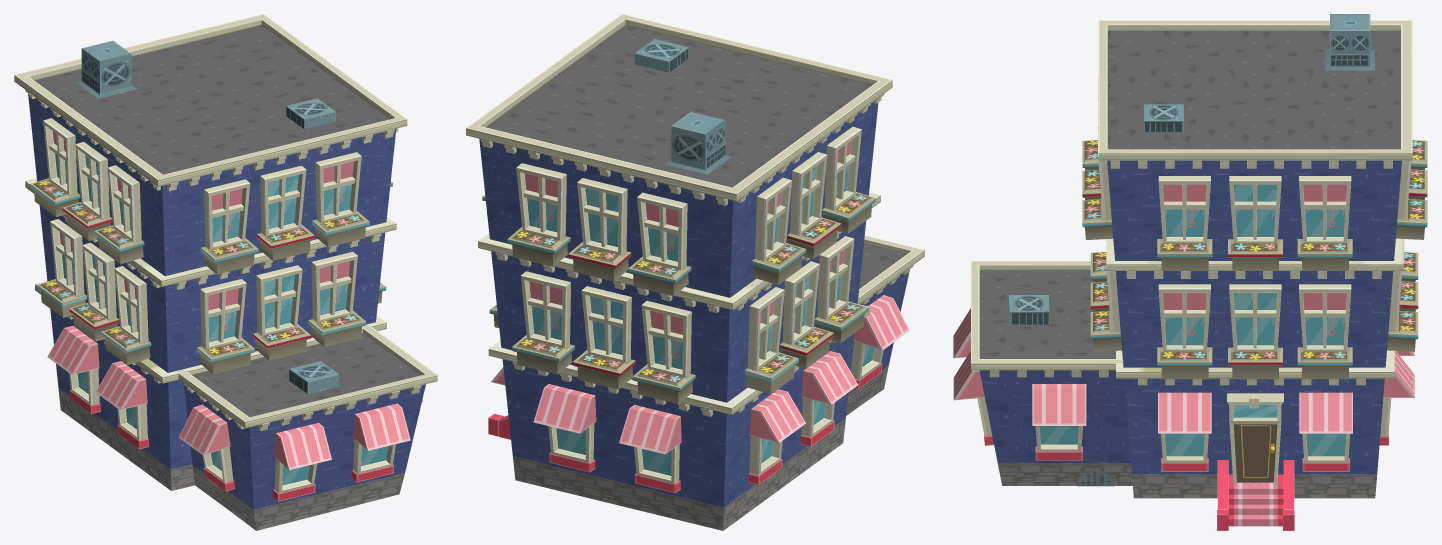
The model's file is Low_Poly_Building.glb.
3 views of the same model, side by side, from view 1: azimuth 30°, elevation 25°; view 2: azimuth 150°, elevation 25°; view 3: azimuth 270°, elevation 25° (orthographic). The views are drawn at different scales.
Visible parts, largest first — view 1: pCube15_Walls_0, pCube31_Roof1_0, pCube26_Window_onning_0 (×5), pCube2_Walls_0, pCube31_Trim_0, pCube28_Roof1_0, pCube7_Window_N_0 (×4), pCube3_Window_B_0 (×4), pCube11_Window_B_0 (×4), pCube12_Flower_Box_1_0 (×4), pCube4_Flower_Box_1_0 (×4), pCube8_Flower_Box_2_0 (×4) (+9 smaller); view 2: pCube15_Walls_0, pCube31_Roof1_0, pCube31_Trim_0, pCube26_Window_onning_0 (×5), pCube7_Window_N_0 (×4), pCube3_Window_B_0 (×4), pCube11_Window_B_0 (×4), pCube15_Foundation_0, pCube4_Flower_Box_1_0 (×4), pCube8_Flower_Box_2_0 (×4), pCube12_Flower_Box_1_0 (×4), pCube25_Window_B_0 (×5) (+9 smaller); view 3: pCube15_Walls_0, pCube31_Roof1_0, pCube26_Window_onning_0 (×6), pCube31_Trim_0, pCube28_Roof1_0, pCube2_Walls_0, pCube11_Window_B_0 (×4), pCube3_Window_B_0 (×4), pCube7_Window_N_0 (×2), pCube8_Flower_Box_2_0 (×6), pCube4_Flower_Box_1_0 (×4), pCube12_Flower_Box_1_0 (×4) (+14 smaller).
Part boxes in pixels (x1,y1,x2,y2): pCube15_Walls_0: (28,96,396,469); pCube31_Roof1_0: (34,25,389,174); pCube26_Window_onning_0 (×5): (47,326,410,469); pCube2_Walls_0: (183,383,425,509); pCube31_Trim_0: (14,14,407,186); pCube28_Roof1_0: (192,333,420,417); pCube7_Window_N_0 (×4): (75,141,306,336); pCube3_Window_B_0 (×4): (43,118,250,349); pCube11_Window_B_0 (×4): (107,152,361,343); pCube12_Flower_Box_1_0 (×4): (94,211,369,364); pCube4_Flower_Box_1_0 (×4): (30,178,258,373); pCube8_Flower_Box_2_0 (×4): (62,202,314,360); pCube15_Walls_0: (479,102,878,507); pCube31_Roof1_0: (486,25,871,187); pCube31_Trim_0: (466,14,892,201); pCube26_Window_onning_0 (×5): (533,295,909,454); pCube7_Window_N_0 (×4): (577,152,827,363); pCube3_Window_B_0 (×4): (516,163,791,370); pCube11_Window_B_0 (×4): (637,126,861,377); pCube15_Foundation_0: (513,418,845,530); pCube4_Flower_Box_1_0 (×4): (507,227,806,394); pCube8_Flower_Box_2_0 (×4): (568,217,841,389); pCube12_Flower_Box_1_0 (×4): (628,192,875,403); pCube25_Window_B_0 (×5): (548,341,883,483); pCube15_Walls_0: (1107,160,1401,474); pCube31_Roof1_0: (1107,31,1400,149); pCube26_Window_onning_0 (×6): (953,308,1414,433); pCube31_Trim_0: (1098,20,1412,160); pCube28_Roof1_0: (979,270,1115,358); pCube2_Walls_0: (979,370,1130,463); pCube11_Window_B_0 (×4): (1098,134,1351,351); pCube3_Window_B_0 (×4): (1158,160,1411,351); pCube7_Window_N_0 (×2): (1229,176,1281,351); pCube8_Flower_Box_2_0 (×6): (1082,169,1427,379); pCube4_Flower_Box_1_0 (×4): (1157,199,1427,379); pCube12_Flower_Box_1_0 (×4): (1082,199,1352,379).
Size of the model in its own units: 5.44 by 6.35 by 6.95.
14 materials, 14 textured.
